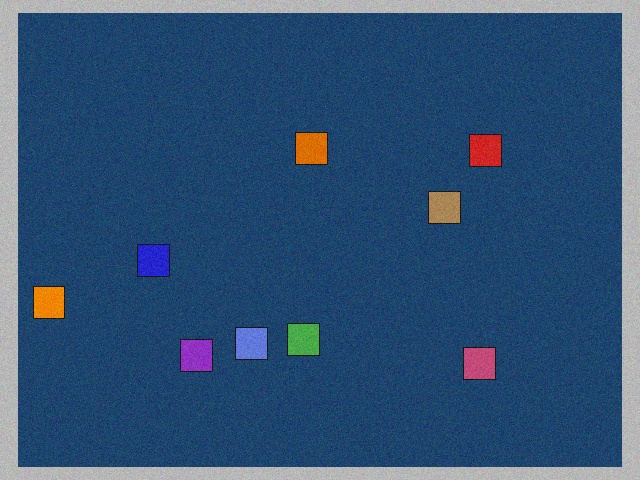block: (33, 284, 79, 318), (455, 341, 495, 379), (181, 334, 219, 372), (461, 134, 501, 170), (138, 244, 178, 276), (235, 323, 270, 359), (423, 191, 461, 224), (296, 133, 328, 169), (288, 319, 320, 355)
